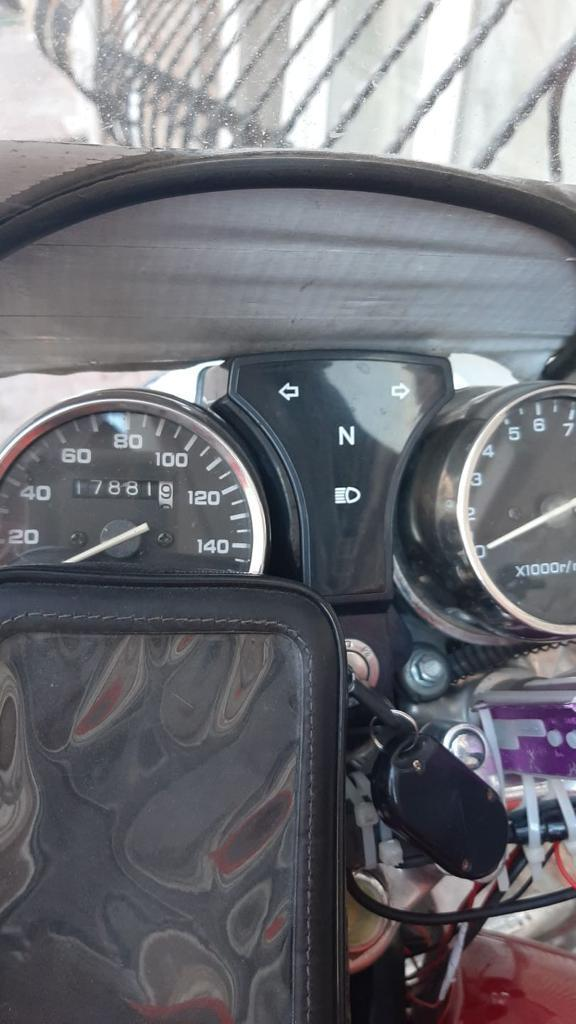1: (74, 476, 82, 498), (145, 479, 153, 498)
7: (89, 477, 102, 497)
8: (124, 478, 139, 497), (107, 478, 121, 496)
9: (159, 481, 173, 498)
odometer: (66, 473, 177, 512)
